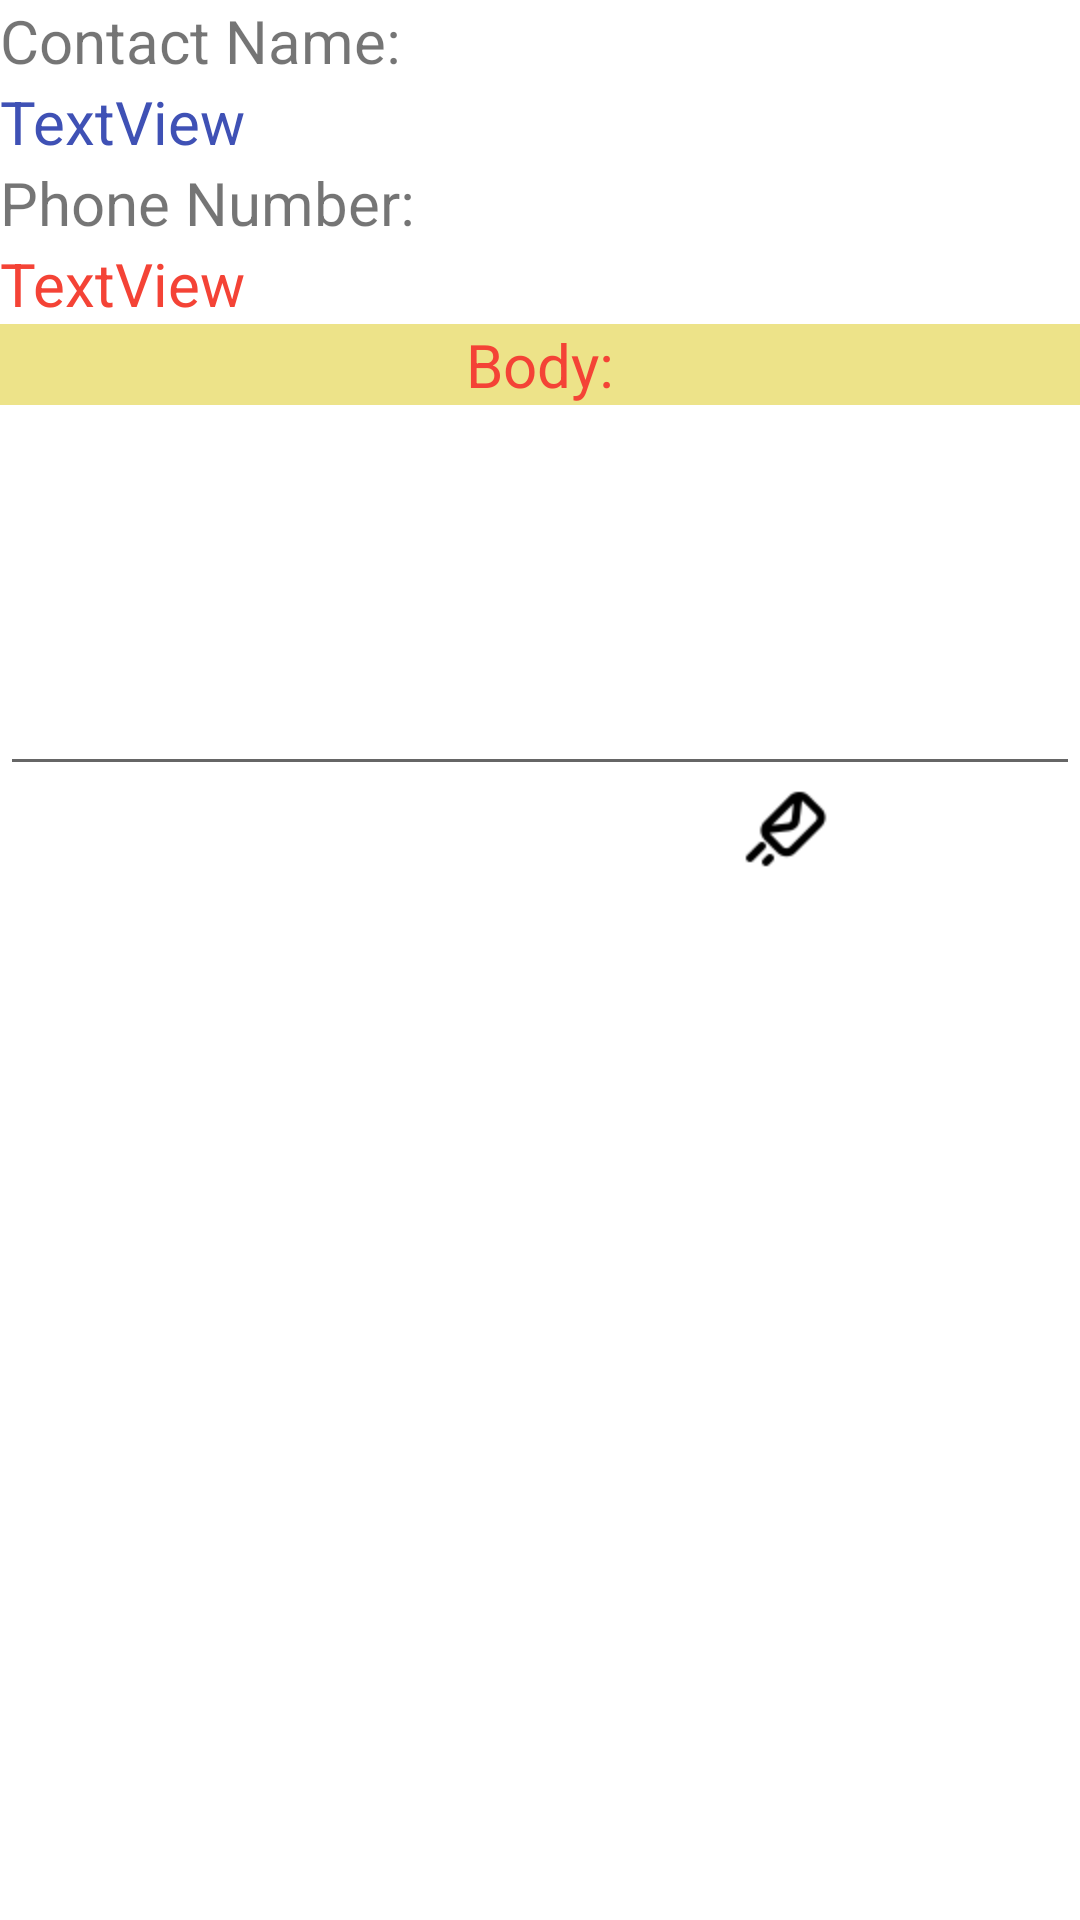

Icons on this 1080 × 1920 Android screen, each with the point to tap as [x,y]:
sendsms: [786,829]
